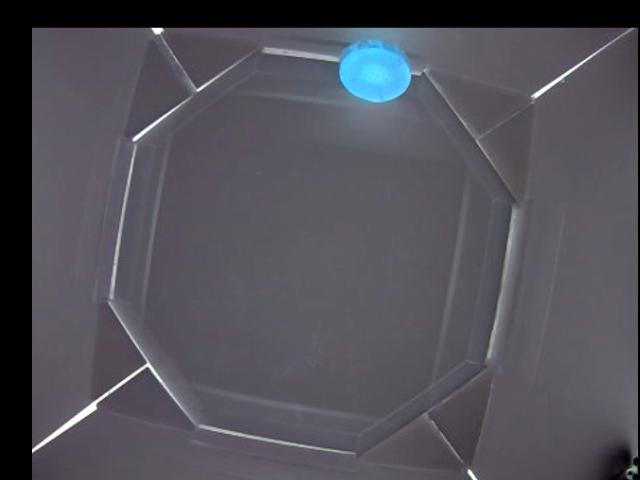Carrot: (337, 40, 412, 101)
